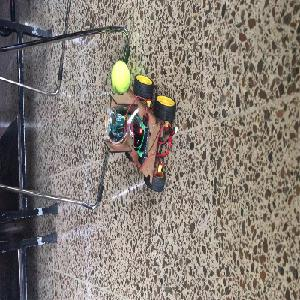Ball: (110, 60, 130, 92)
Robot: (103, 75, 176, 191)
